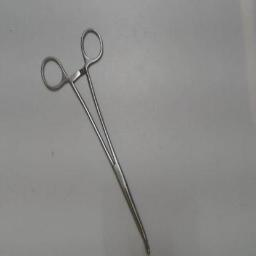Lahey Forceps: (36, 19, 154, 255)
